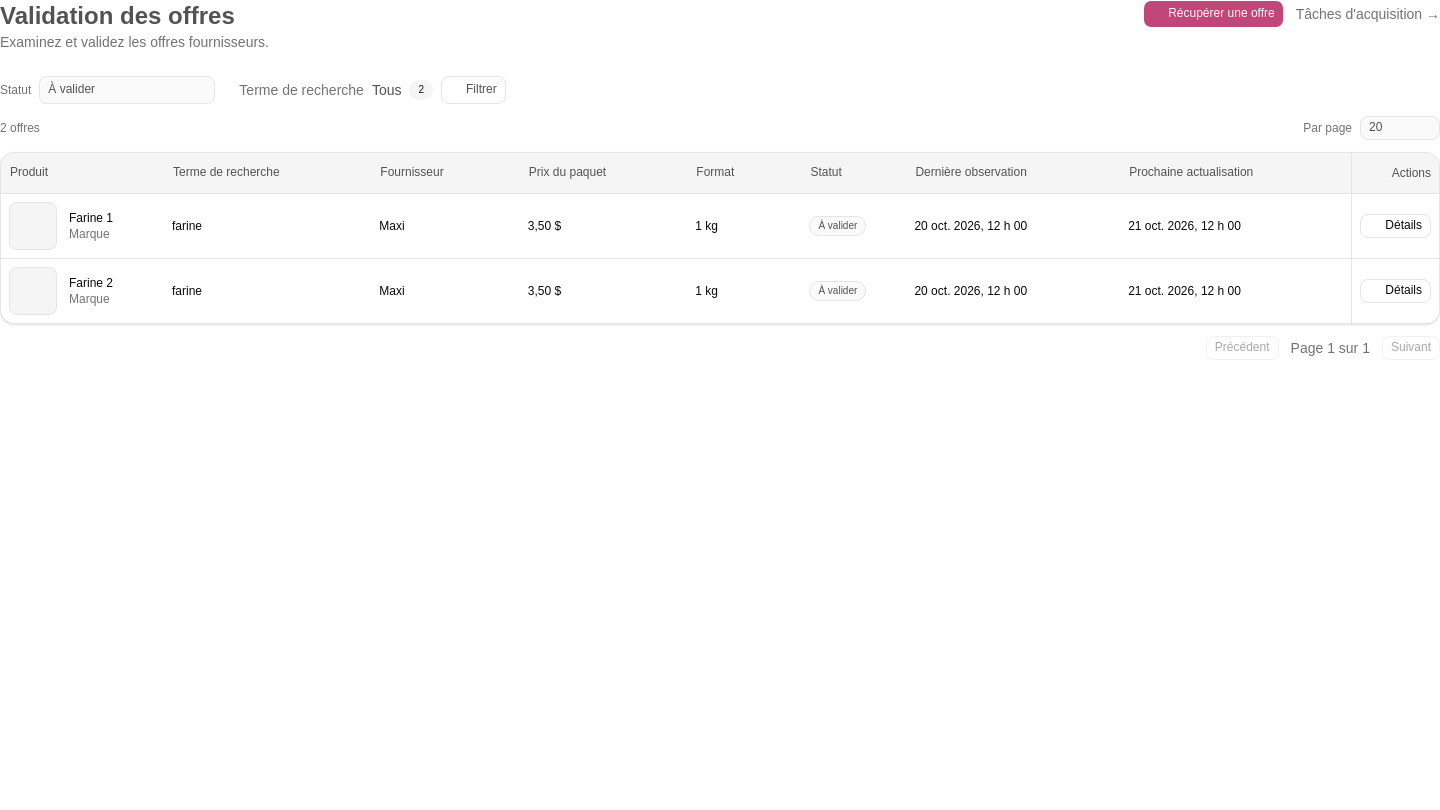
Test: Procurement review › validates from the drawer footer and closes details without deleting
What coordinates should you click on to do the following:
click the button with aria-label "Consulter Farine 1"
I would click on:
 (1396, 226)
Its box is [1360,214,1431,238].
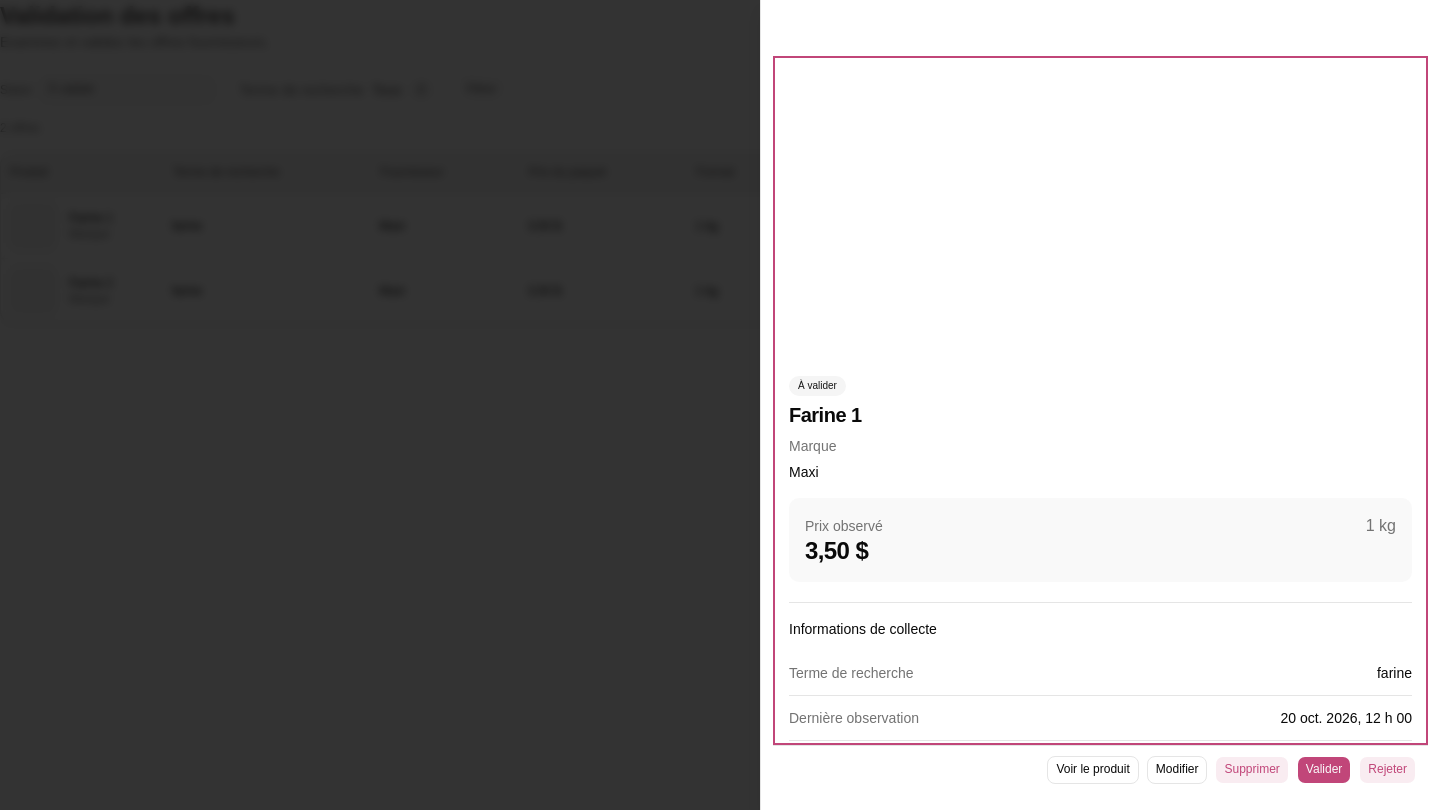
What coordinates should you click on to do the following:
click the button "Valider"
I would click on:
 (1324, 770)
Its box is [1297,756,1351,784].
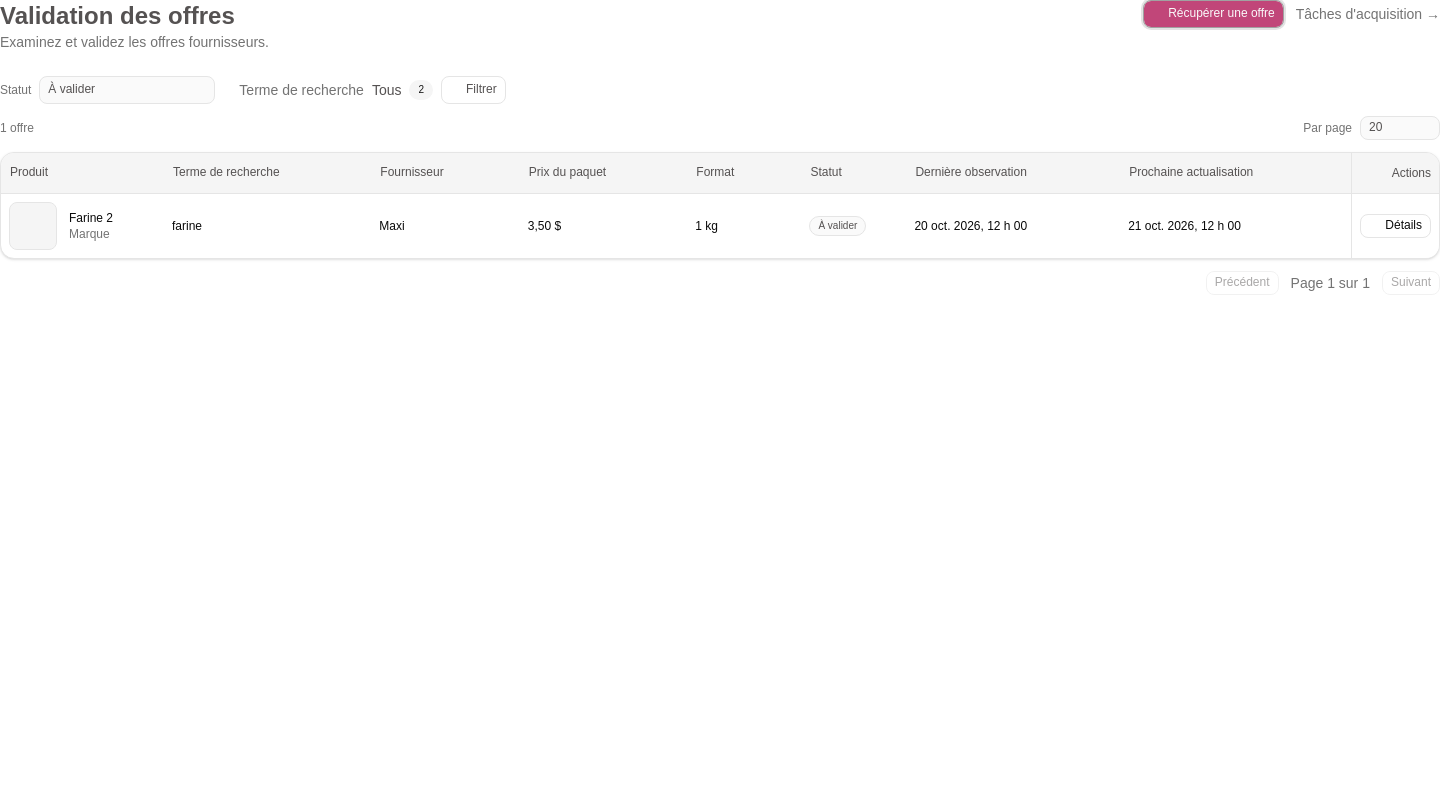
Expected: the button with aria-label "Consulter Farine 2" is shown, [1360,214,1431,238]
Expected: the dialog is gone
